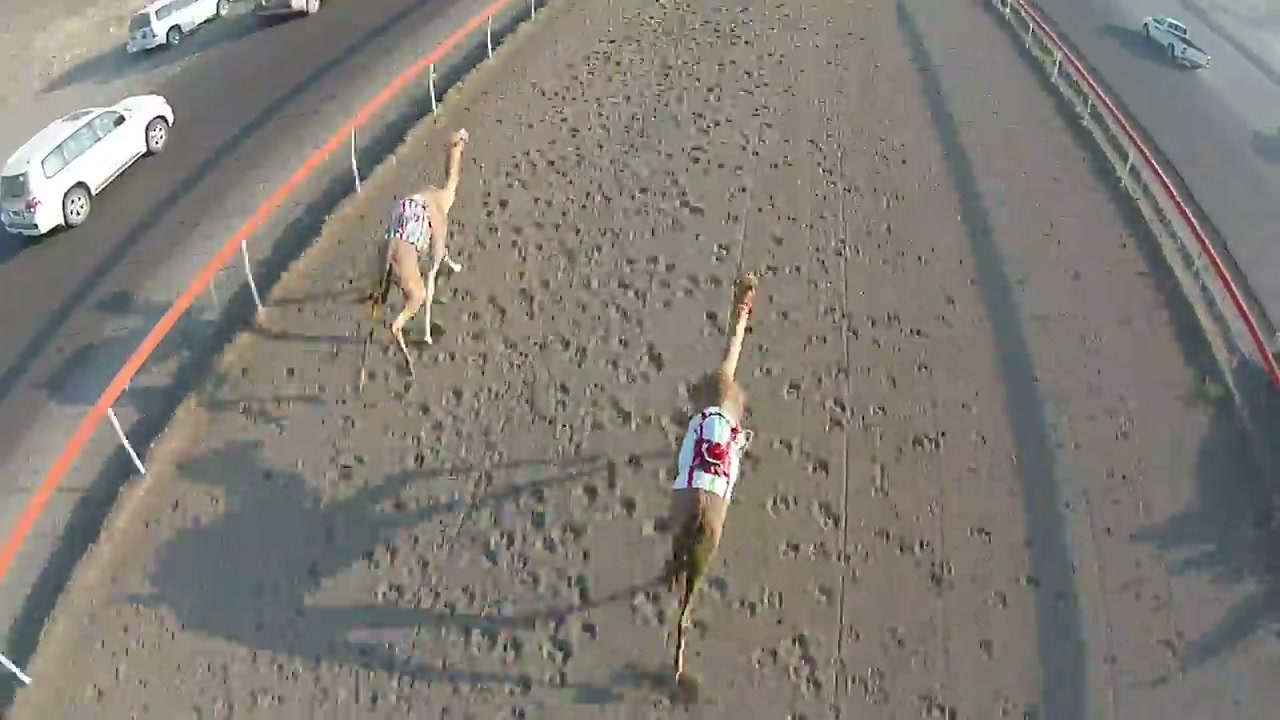animal_foot_print: (362, 32, 659, 498), (600, 76, 780, 698), (733, 88, 868, 706)
